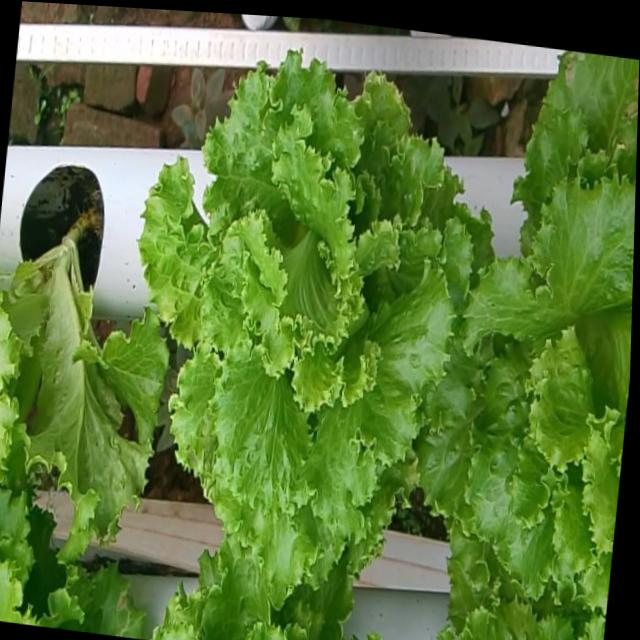Mature: (139, 35, 477, 578), (421, 153, 636, 589)
